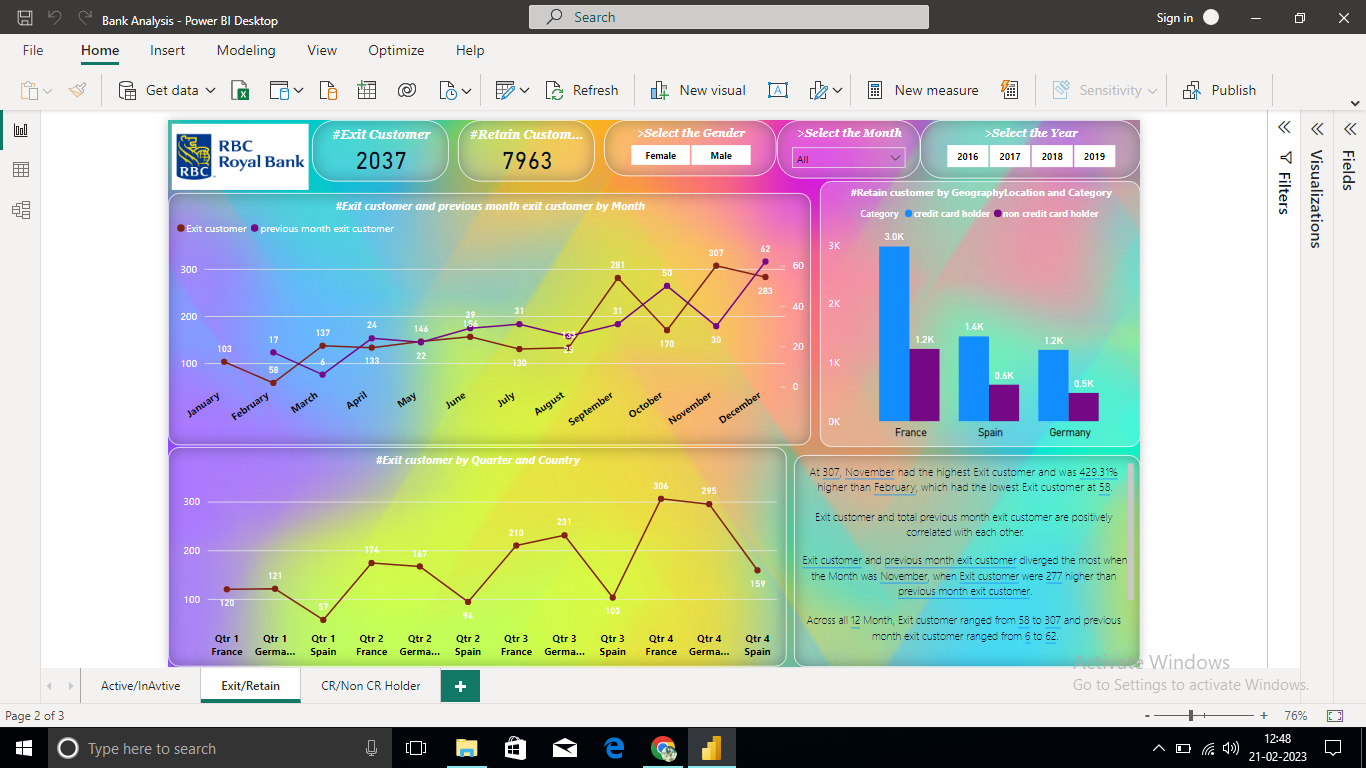

The dashboard page shown, as its layout file describes it:
{"tool":"powerbi","page":{"name":"Exit/Retain","canvas":[1280,720],"ordinal":1},"visuals":[{"type":"card","title":"#Exit Customer","fields":{"Values":["calculation table.Exit customer"]},"box":[189.9,0,180,80.8],"z":0},{"type":"card","title":"#Retain Customer","fields":{"Values":["calculation table.Retain customer"]},"box":[381.3,0,180,80.8],"z":1000},{"type":"image","box":[0,0,190,97],"z":2000},{"type":"slicer","title":">Select the Month","fields":{"Values":["Datemaster.Date.Variation.Date Hierarchy.Month"]},"box":[800.8,0,188.5,76.5],"z":3000},{"type":"slicer","title":">Select the Year","fields":{"Values":["Datemaster.Date.Variation.Date Hierarchy.Year"]},"box":[989.3,0,290.6,76.5],"z":4000},{"type":"lineChart","title":"#Exit customer by Quarter and Country","fields":{"Category":["Datemaster.Date.Variation.Date Hierarchy.Quarter","Geography.GeographyLocation"],"Y":["calculation table.Exit customer"]},"box":[0,430.9,813.5,289.1],"z":5000},{"type":"lineChart","title":"#Exit customer and previous month exit customer by Month","fields":{"Category":["Datemaster.Date.Variation.Date Hierarchy.Month"],"Y":["calculation table.Exit customer"],"Y2":["calculation table.previous month exit customer"]},"box":[0,96.4,846.1,332],"z":6000},{"type":"clusteredColumnChart","title":"#Retain customer by GeographyLocation and Category","fields":{"Category":["Geography.GeographyLocation"],"Y":["calculation table.Retain customer"],"Series":["Credit card.Category"]},"box":[857.5,80.8,422.4,350.1],"z":7000},{"type":"textbox","box":[823.5,440.8,456.4,279.2],"z":8000},{"type":"slicer","title":">Select the Gender","fields":{"Values":["Gender.GenderCategory"]},"box":[574,0,226.8,73.7],"z":9000}]}

Visuals, with their boxes on the page's 1280x720 design canvas (x1, y1, x2, y2). These are canvas units, not pixel positions in the 1366x768 screenshot, which may show the page scaled, cropped or inside an application window:
"#Exit Customer" card: (190, 0, 370, 81)
"#Retain Customer" card: (381, 0, 561, 81)
image: (0, 0, 190, 97)
">Select the Month" slicer: (801, 0, 989, 76)
">Select the Year" slicer: (989, 0, 1280, 76)
"#Exit customer by Quarter and Country" lineChart: (0, 431, 814, 720)
"#Exit customer and previous month exit customer by Month" lineChart: (0, 96, 846, 428)
"#Retain customer by GeographyLocation and Category" clusteredColumnChart: (858, 81, 1280, 431)
textbox: (824, 441, 1280, 720)
">Select the Gender" slicer: (574, 0, 801, 74)
